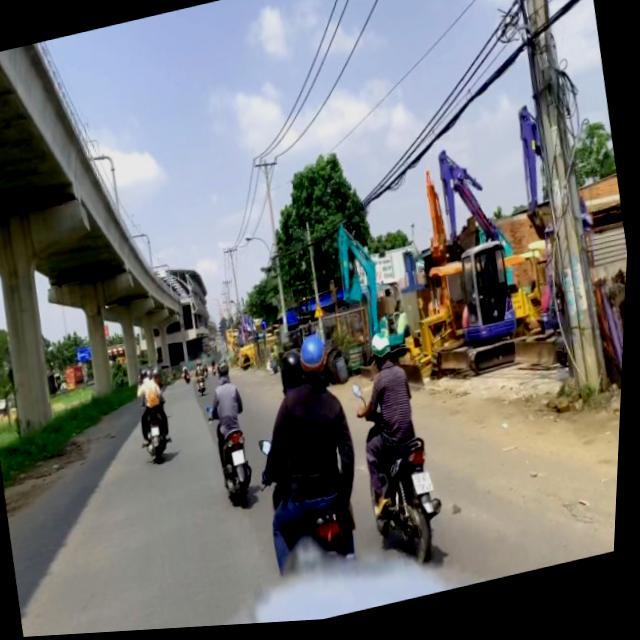Cac xe chi duoc re trai: (263, 322, 271, 333)
cho ngoat nguy hiem vong ben trai: (314, 303, 328, 324)
